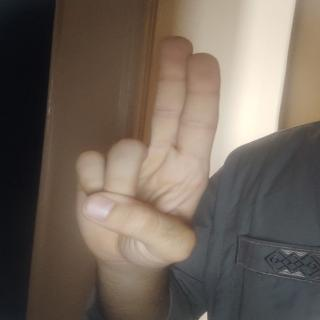TA: (72, 30, 230, 288)
